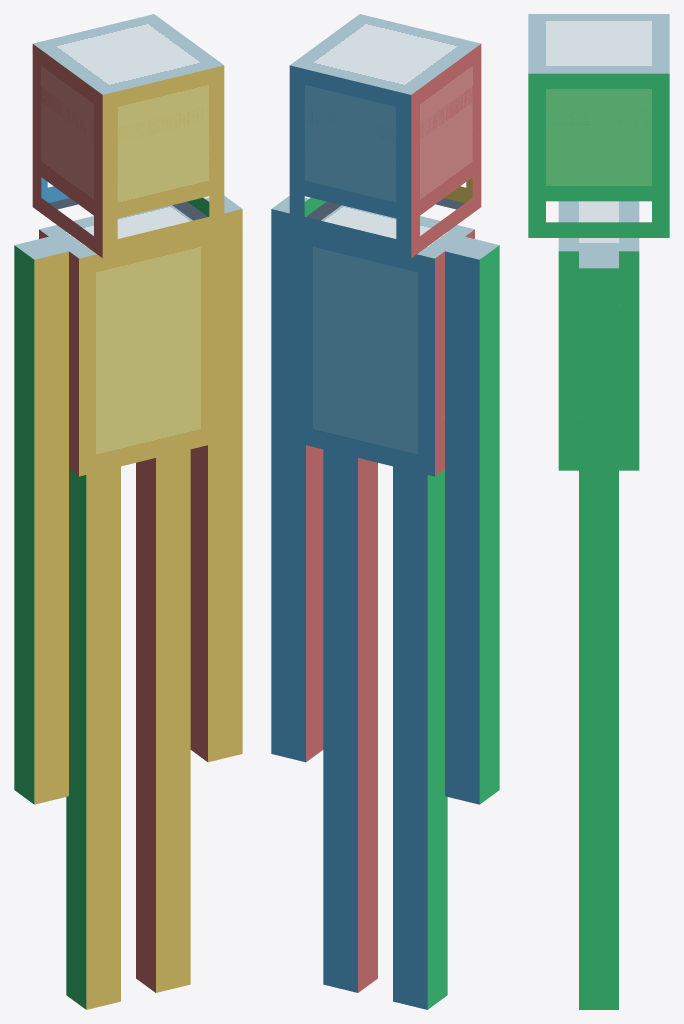
Rendered from enderman_model.gltf.
The picture shows the model from 3 angles, left to right: view 1: azimuth 30°, elevation 25°; view 2: azimuth 150°, elevation 25°; view 3: azimuth 270°, elevation 25°; orthographic projection.
Parts seen in each view (by area): view 1: Body, Head, LeftArm, RightLeg, LeftLeg, RightArm, Head layer; view 2: Body, Head, LeftArm, RightLeg, LeftLeg, RightArm, Head layer; view 3: Head, RightArm, Body, RightLeg, Head layer.
Part boxes in pixels (x1,y1,x2,y2): Body: (39, 205, 217, 476); Head: (32, 14, 224, 221); LeftArm: (14, 236, 68, 804); RightLeg: (136, 449, 190, 992); LeftLeg: (66, 466, 120, 1009); RightArm: (190, 196, 242, 762); Head layer: (32, 80, 224, 258); Body: (296, 205, 474, 476); Head: (289, 14, 481, 221); LeftArm: (445, 236, 499, 804); RightLeg: (323, 449, 377, 992); LeftLeg: (393, 466, 447, 1009); RightArm: (271, 196, 323, 762); Head layer: (289, 80, 481, 258); Head: (528, 14, 669, 201); RightArm: (579, 251, 618, 816); Body: (558, 201, 639, 470); RightLeg: (579, 816, 618, 1009); Head layer: (528, 110, 669, 237).
Bounding box in the file's own units: 0.75 × 3.22 × 0.4375.
Materials: 1 (1 with a texture image).
